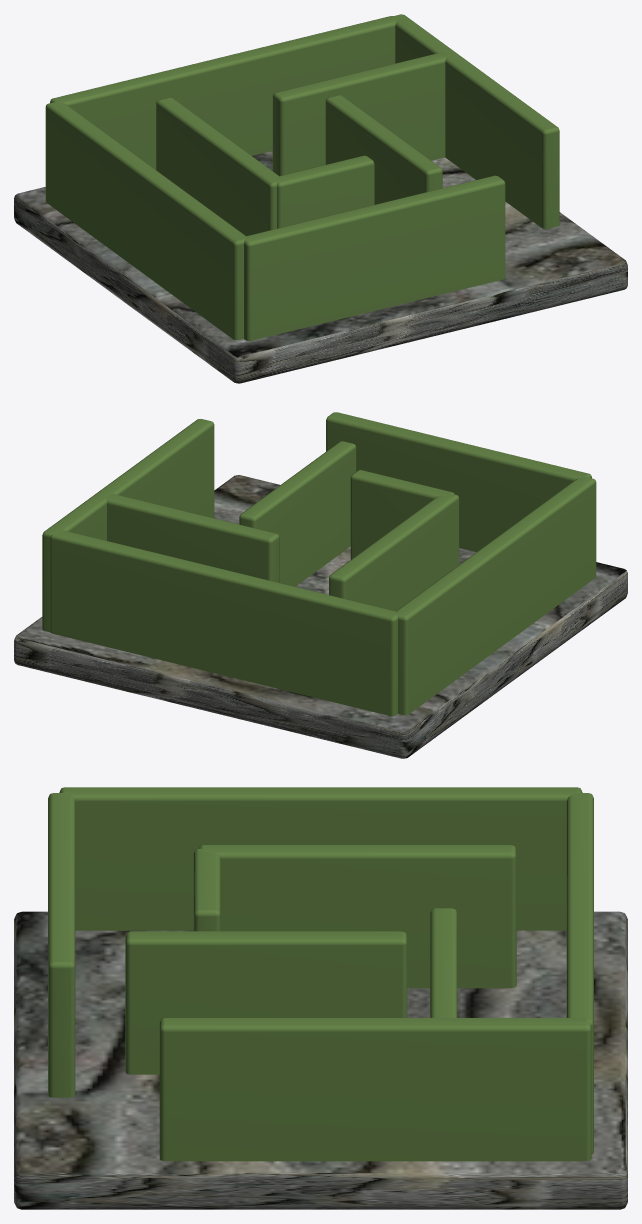
Rendered from env-site-maze.glb.
3 renders of one model, top to bottom at view 1: azimuth 30°, elevation 25°; view 2: azimuth 150°, elevation 25°; view 3: azimuth 270°, elevation 25°, orthographic. The views are drawn at different scales.
Parts seen in each view (by area): view 1: site maze · authored textured miniature; view 2: site maze · authored textured miniature; view 3: site maze · authored textured miniature.
Boxes of the visible parts, x1,y1,x2,y2 form: site maze · authored textured miniature: [14, 14, 627, 383]; site maze · authored textured miniature: [14, 412, 627, 758]; site maze · authored textured miniature: [14, 787, 627, 1209].
Size of the model in its own units: 1.37 by 0.425 by 1.35.
2 materials, 1 textured.
